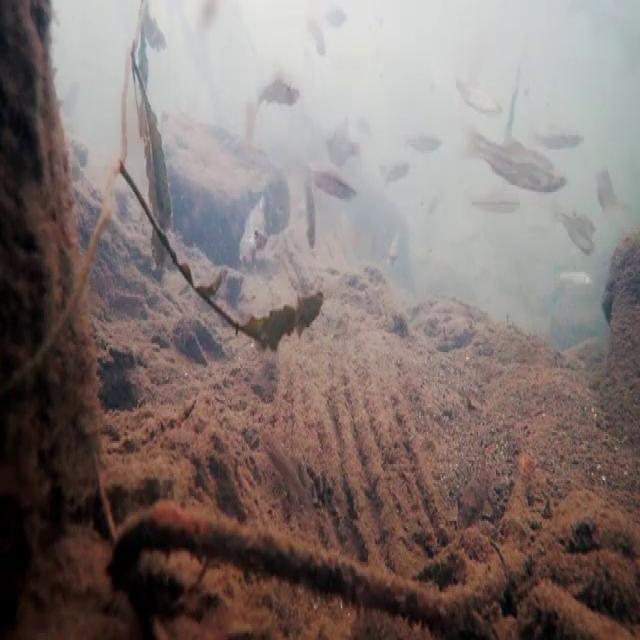Cakil Baligi: (473, 125, 560, 198), (258, 55, 298, 115), (313, 160, 354, 207), (403, 121, 444, 160), (384, 144, 411, 192), (301, 14, 328, 59), (304, 180, 317, 248)
